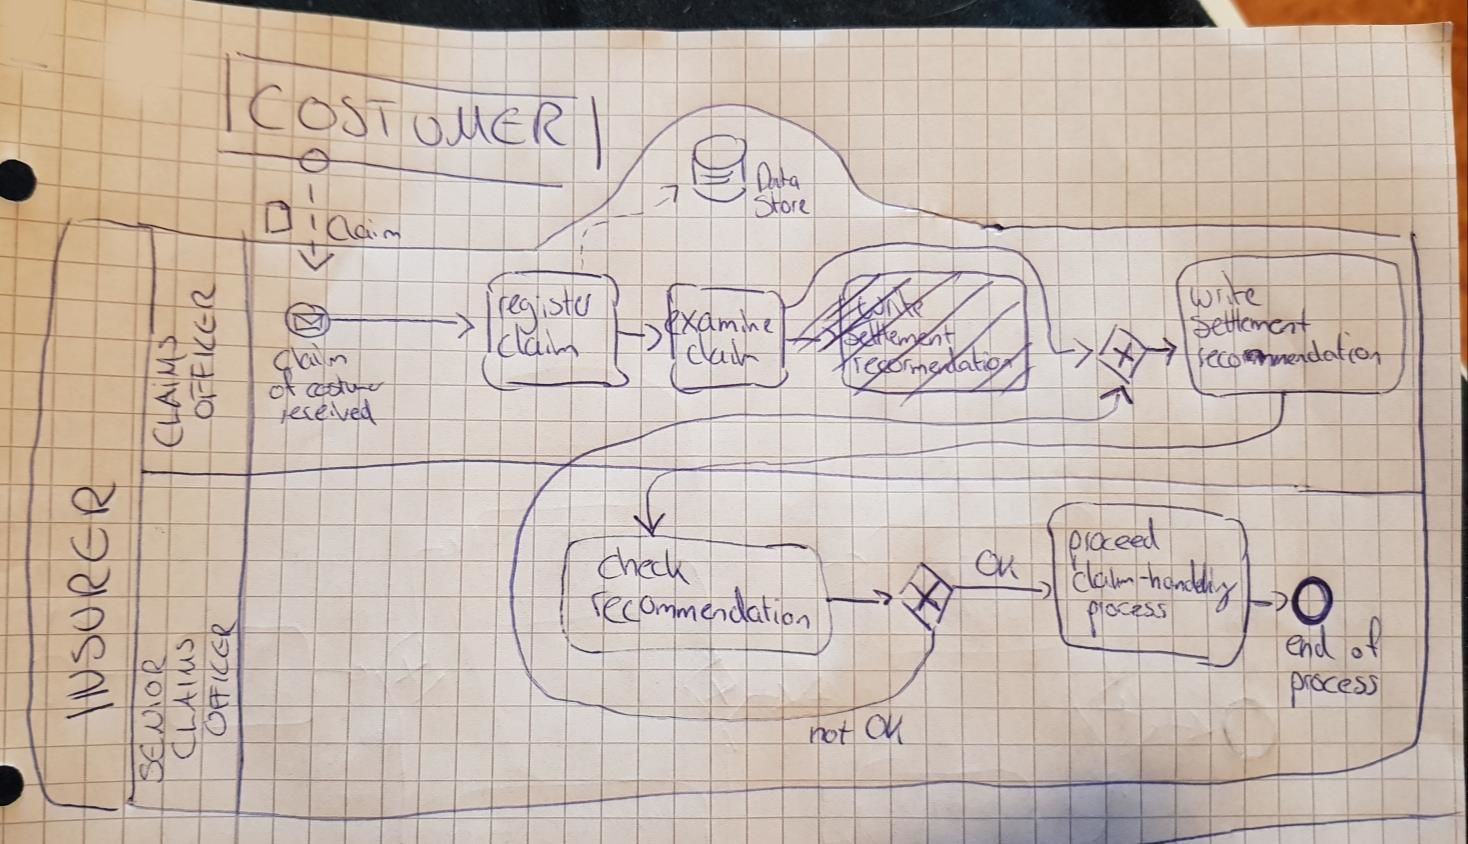CLAIMS: (141, 328, 194, 456), (162, 631, 203, 769)
COSTUMER: (243, 81, 575, 152)
Claim: (263, 337, 355, 377), (323, 211, 407, 245)
Data: (748, 156, 806, 198)
INSURER: (52, 472, 125, 731)
OFFICER: (181, 273, 224, 429), (195, 615, 240, 743)
OK: (857, 706, 910, 753), (965, 544, 1025, 584)
SENIOR: (129, 648, 172, 790)
Store: (746, 188, 815, 225)
check: (588, 541, 694, 591)
claim: (487, 318, 586, 366), (678, 327, 765, 374)
claim-handling: (1064, 553, 1245, 618)
costumer: (297, 370, 391, 405)
end: (1278, 619, 1341, 668)
examine: (655, 300, 781, 342)
not: (799, 713, 860, 753)
of: (1343, 608, 1388, 670), (261, 363, 302, 407)
proceed: (1061, 512, 1166, 577)
process: (1280, 666, 1386, 717), (1078, 594, 1173, 645)
received: (272, 393, 382, 433)
recommendation: (581, 581, 815, 636), (1189, 326, 1388, 375)
register: (490, 281, 597, 341)
settlement: (1182, 302, 1317, 346)
write: (1181, 265, 1268, 314)
